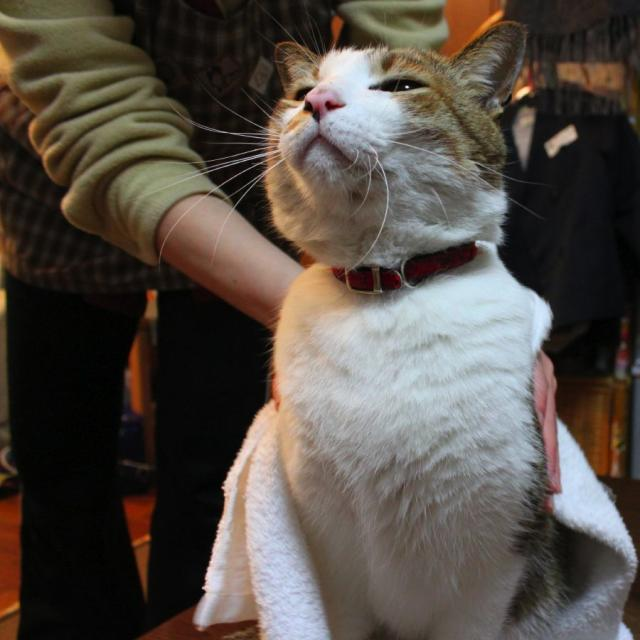cat: (194, 8, 640, 639)
